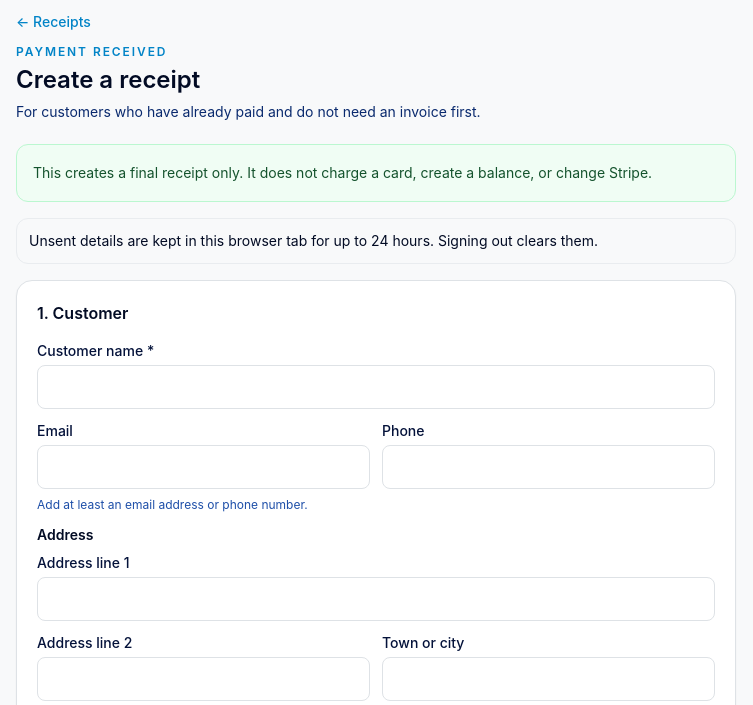
ReceiptEditorPage › warns truthfully when unsent draft storage fails and keeps the entered fields
The width and height of the screenshot is (753, 705).
Step 1. Type "TEST ONLY - storage unavailable" into the field labelled "Customer name *" → (376, 387), box [37, 365, 715, 409]
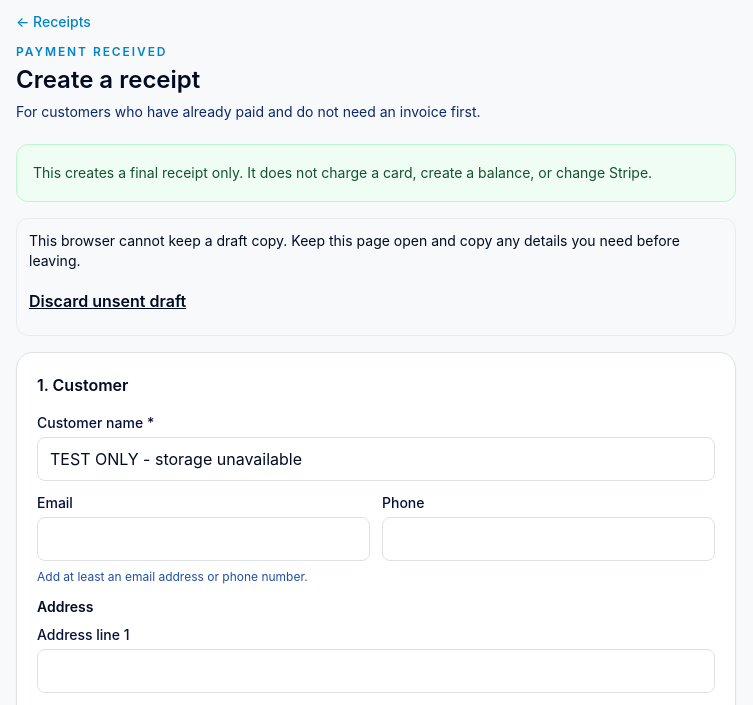
Check: the message shows "cannot keep a draft copy", box [29, 232, 680, 269]
